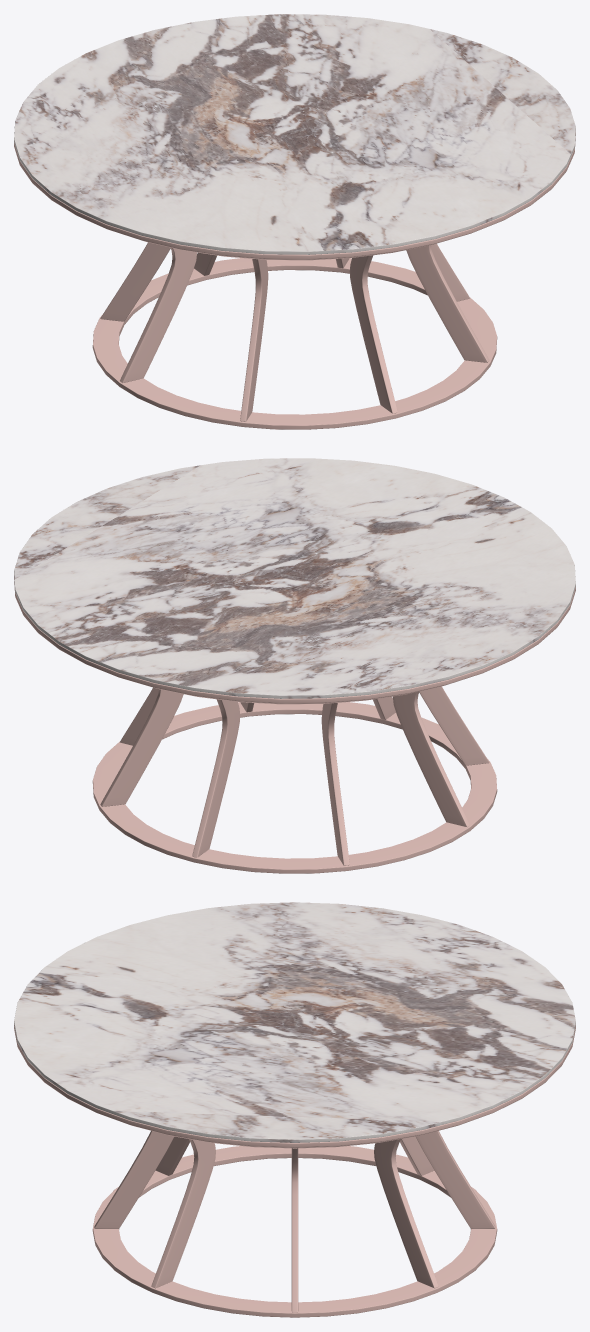
Rendered from SBH_SPIN_A.glb.
The picture shows the model from 3 angles, top to bottom: view 1: azimuth 30°, elevation 25°; view 2: azimuth 150°, elevation 25°; view 3: azimuth 270°, elevation 25°; orthographic projection.
Parts seen in each view (by area): view 1: SPIN_A; view 2: SPIN_A; view 3: SPIN_A.
Part boxes in pixels (left/top/right/bottom): SPIN_A: left=14, top=14, right=575, bottom=429; SPIN_A: left=14, top=458, right=575, bottom=873; SPIN_A: left=14, top=902, right=575, bottom=1317.
Bounding box in the file's own units: 0.9024 × 0.375 × 0.9024.
2 materials, 1 textured.
